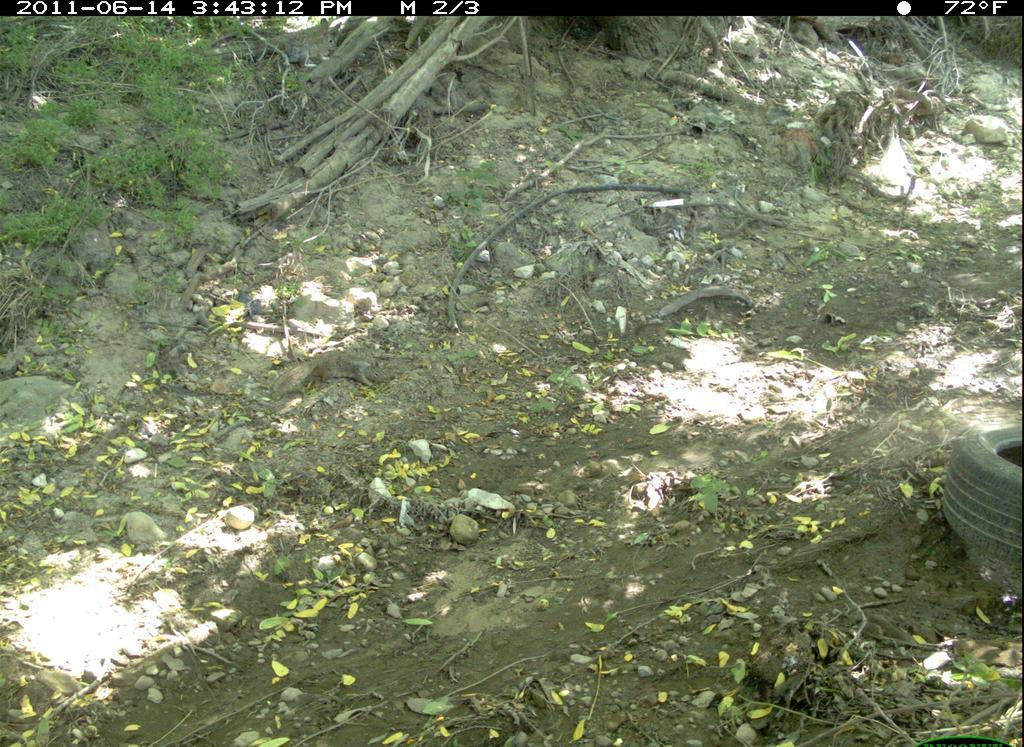squirrel: (271, 347, 395, 406)
